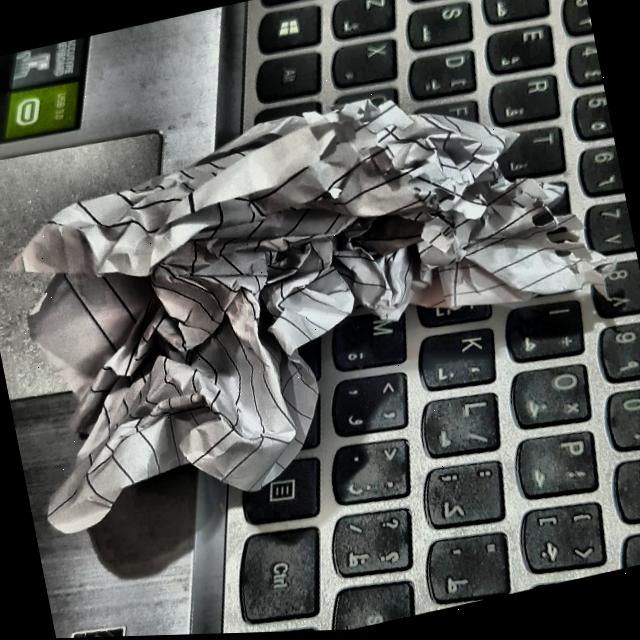paper: (0, 74, 607, 553)
